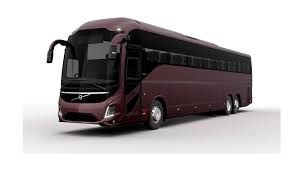bus: (46, 16, 253, 130)
